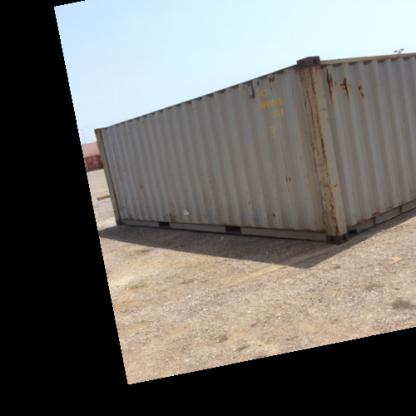Damage: (306, 114, 344, 232), (318, 69, 374, 102), (161, 198, 197, 223), (133, 173, 153, 203), (275, 164, 296, 187), (260, 68, 284, 86), (118, 192, 132, 221), (269, 207, 280, 225)
